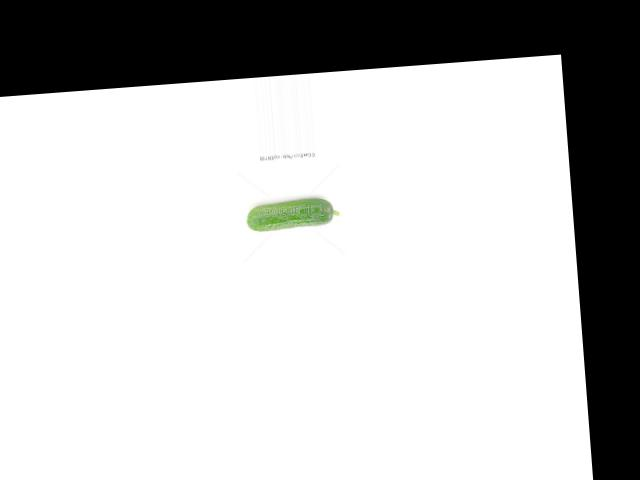cucumber: (244, 196, 340, 232)
